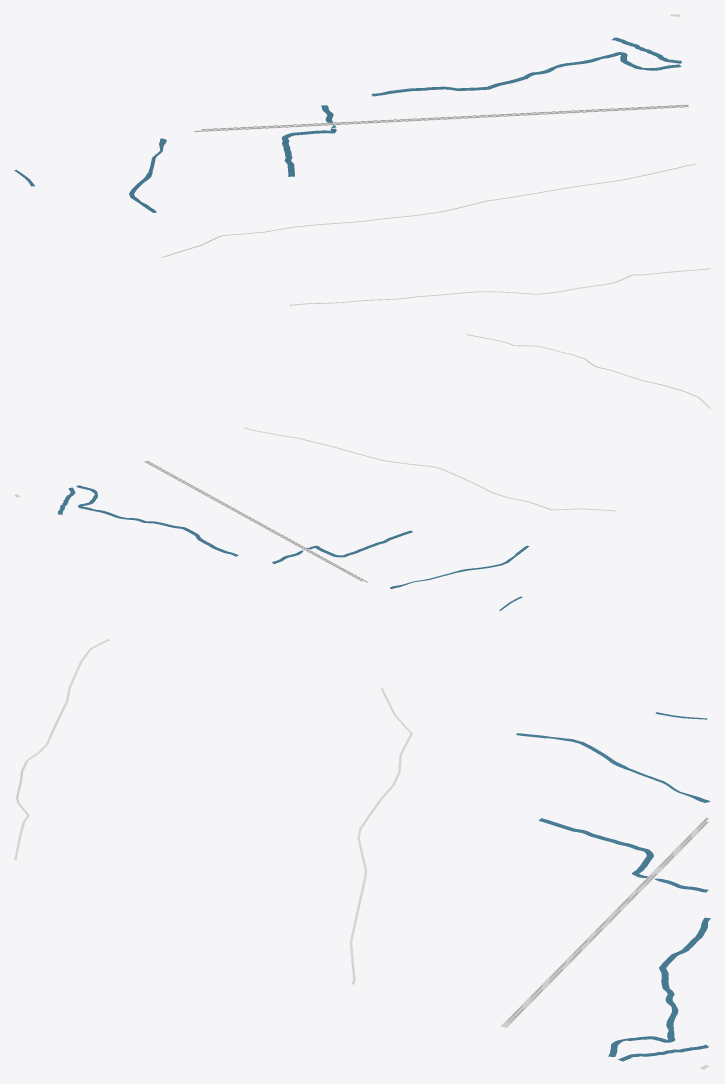
The model's file is objekty.glb.
3 views of the same model, one above another, from view 1: azimuth 30°, elevation 25°; view 2: azimuth 150°, elevation 25°; view 3: azimuth 270°, elevation 25° (orthographic). The views are drawn at different scales.
Visible parts, largest first — view 1: Cesty_07_09, Voda_07_09, Kolajnice_07_09; view 2: Cesty_07_09, Voda_07_09; view 3: Cesty_07_09, Voda_07_09.
Part boxes in pixels (left/top/right/bottom): Cesty_07_09: left=161, top=14, right=710, bottom=305; Voda_07_09: left=14, top=37, right=681, bottom=212; Kolajnice_07_09: left=195, top=105, right=688, bottom=131; Cesty_07_09: left=14, top=334, right=710, bottom=582; Voda_07_09: left=57, top=485, right=529, bottom=610; Cesty_07_09: left=14, top=639, right=709, bottom=1069; Voda_07_09: left=516, top=712, right=710, bottom=1061.
Bounding box in the file's own units: 981 × 125 × 828.
